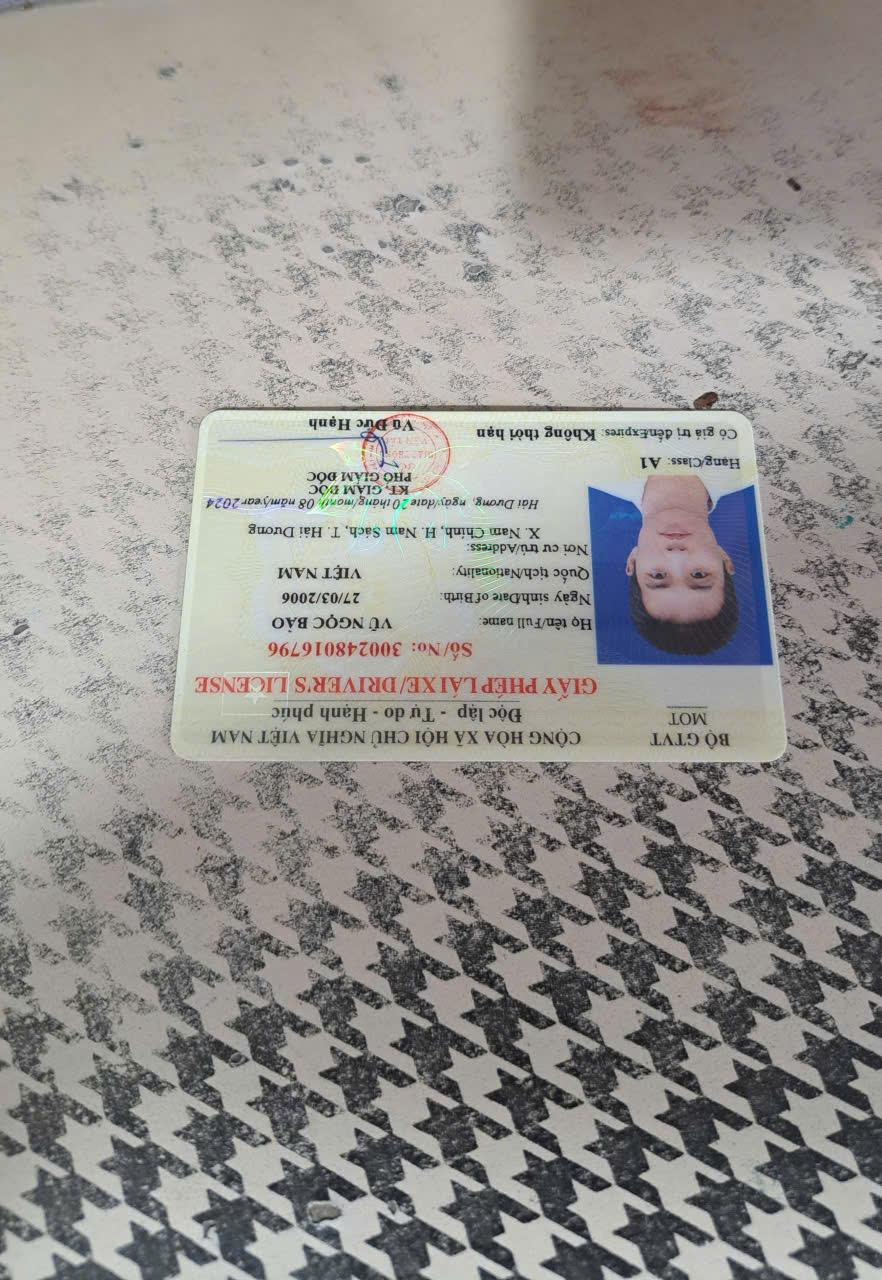gplx: (166, 397, 792, 772)
